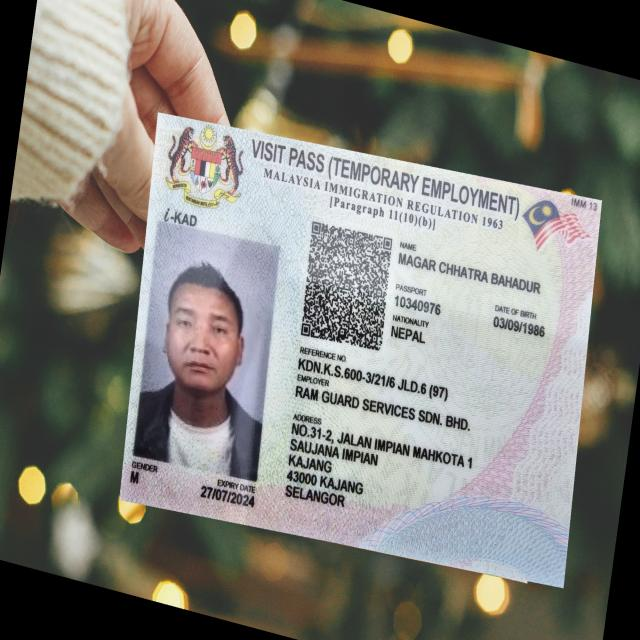ikad-temp: (118, 111, 602, 588)
